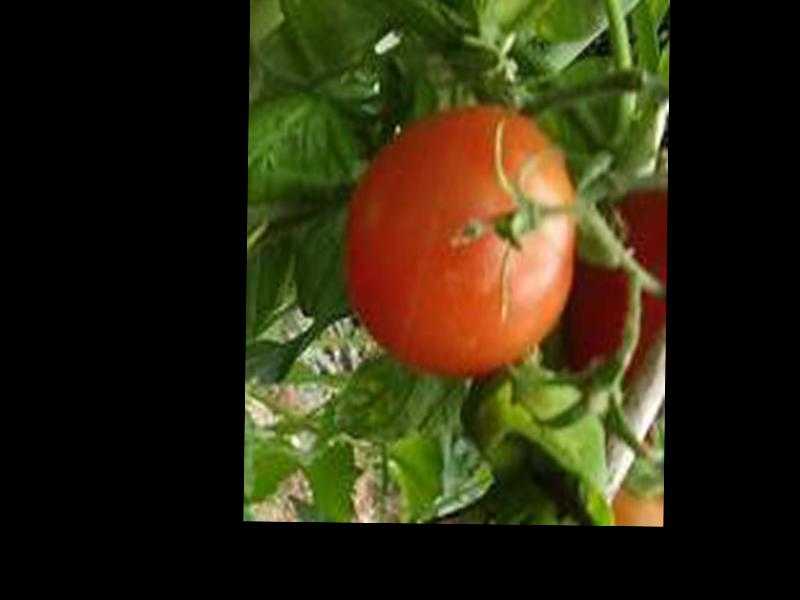Tomato: (349, 106, 578, 374)
